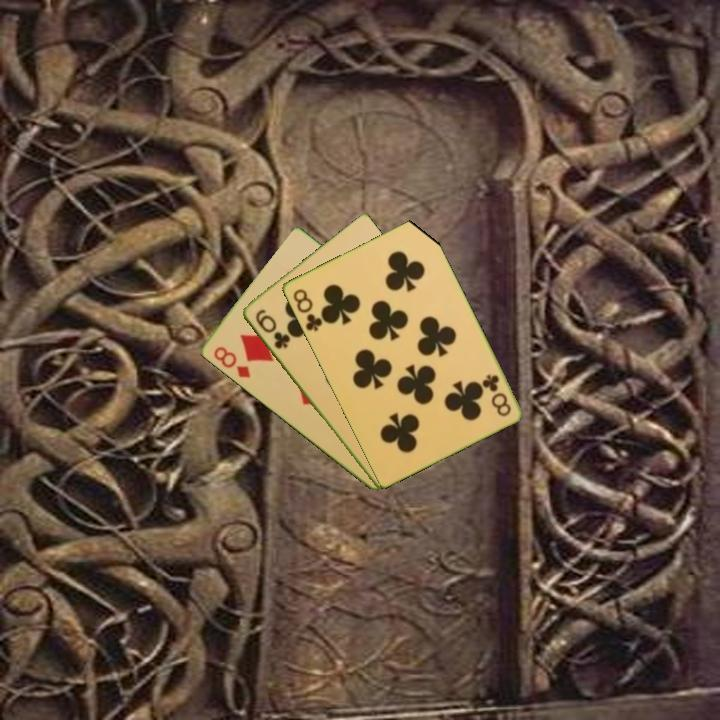6c: (251, 305, 292, 352)
8c: (289, 285, 325, 334), (478, 370, 514, 419)
8d: (209, 343, 253, 381)
